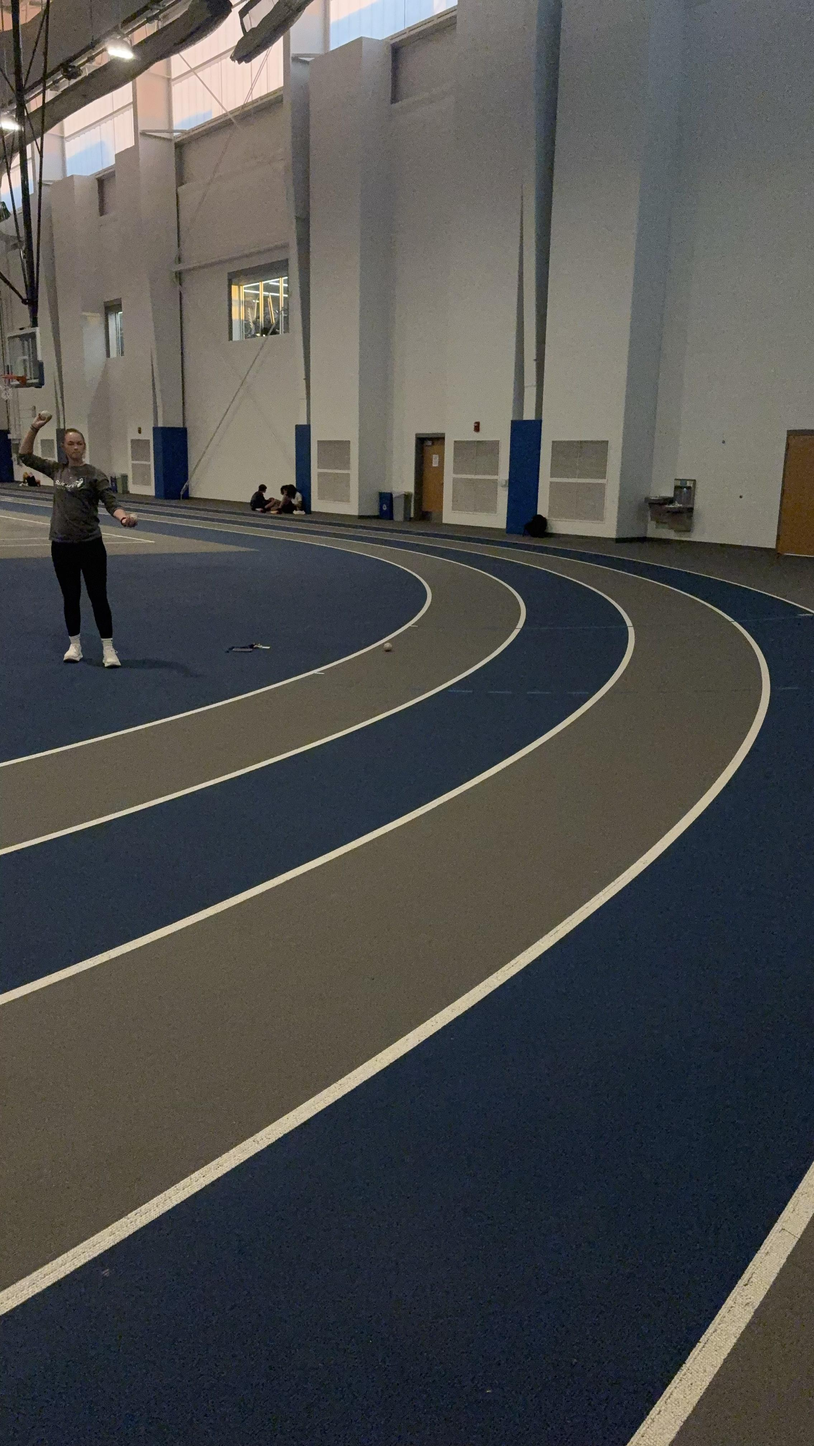Baseball: (380, 640, 395, 655), (38, 410, 52, 422)
